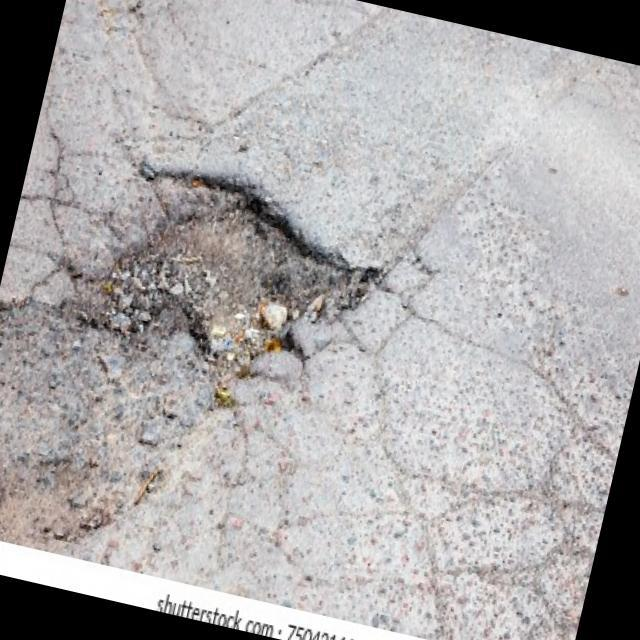Pothole: (59, 146, 400, 424)
